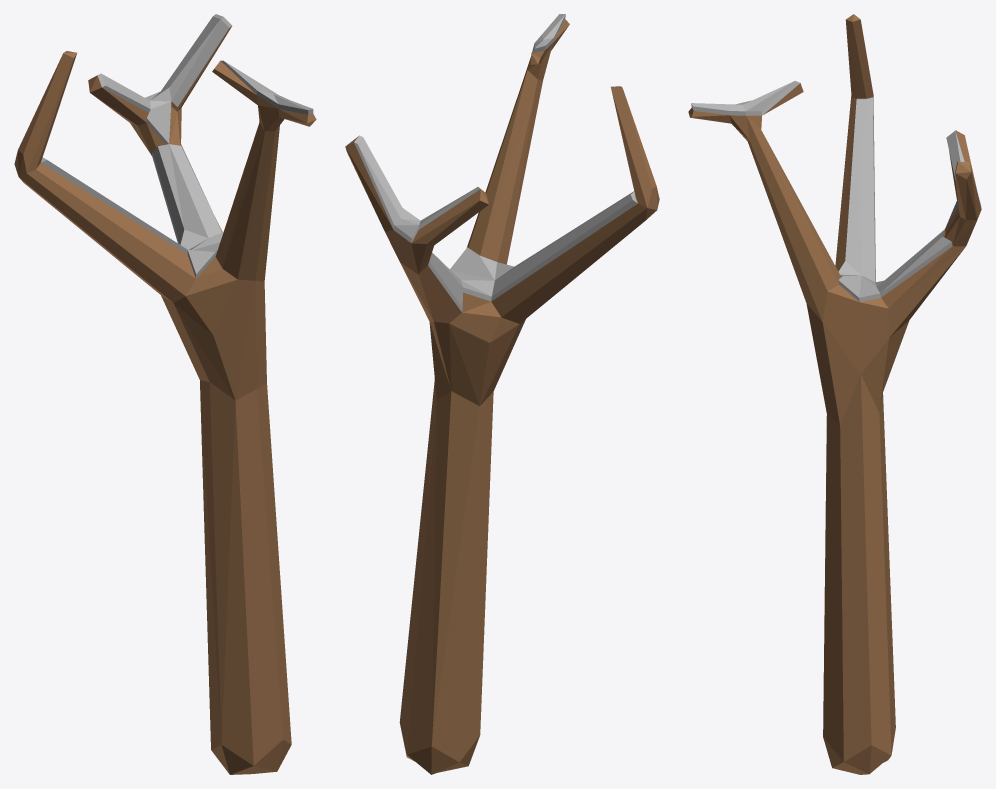
Rendered from Tree_5 Winter.fbx.
3 views of the same model, side by side, from view 1: azimuth 30°, elevation 25°; view 2: azimuth 150°, elevation 25°; view 3: azimuth 270°, elevation 25° (orthographic). The views are drawn at different scales.
Visible parts, largest first — view 1: Tree5Winter_mesh; view 2: Tree5Winter_mesh; view 3: Tree5Winter_mesh.
Part boxes in pixels (left/top/right/bottom): Tree5Winter_mesh: left=14, top=14, right=316, bottom=774; Tree5Winter_mesh: left=345, top=14, right=659, bottom=774; Tree5Winter_mesh: left=688, top=14, right=981, bottom=774.
Size of the model in its own units: 171 by 469 by 184.
